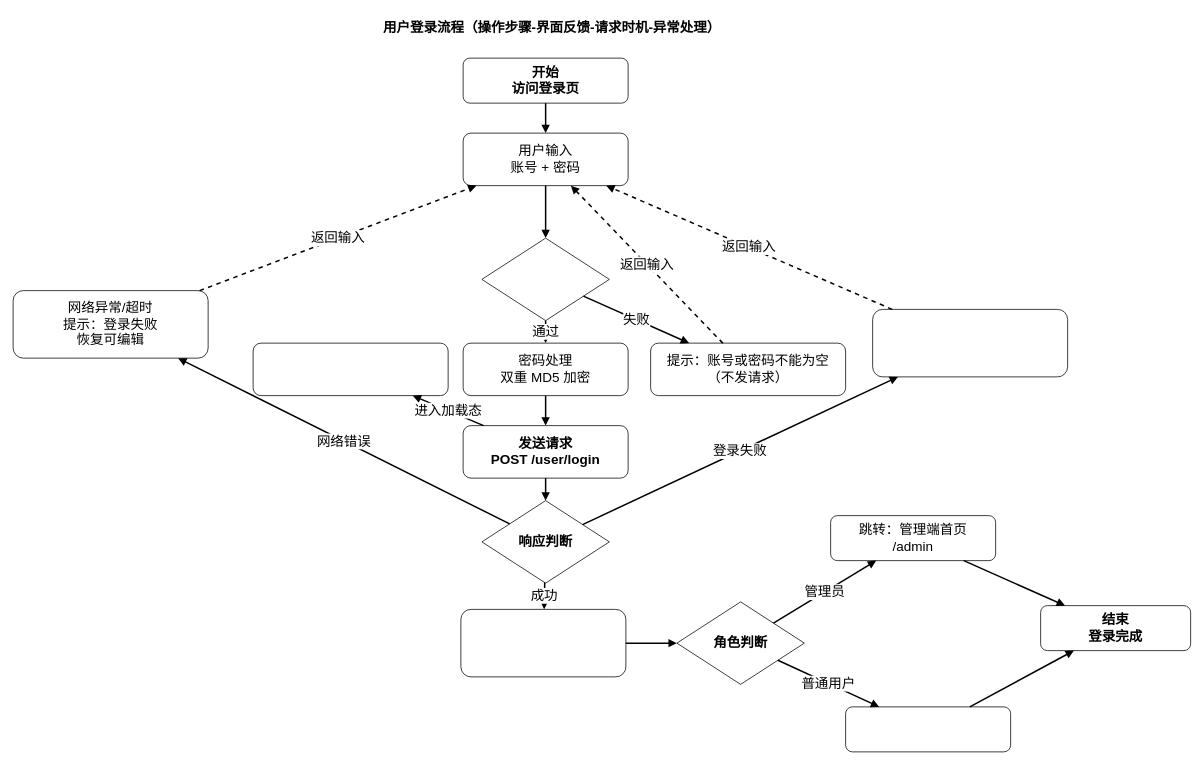
Some shapes in this 1204 by 765 pixel diagram are drawn without their labels. The centre of each missing label's shape, as x and y in pixels:
"保存登录信息 Token / Role / UserInfo （localStorage）" goes at (543,643).
"界面反馈：加载态 禁用输入/按钮 + Loading" goes at (350,369).
"表单校验 （必填/格式）" goes at (545,279).
"账号或密码错误 提示错误信息 恢复可编辑" goes at (970,343).
"跳转：用户端首页 /user" goes at (928,729).
